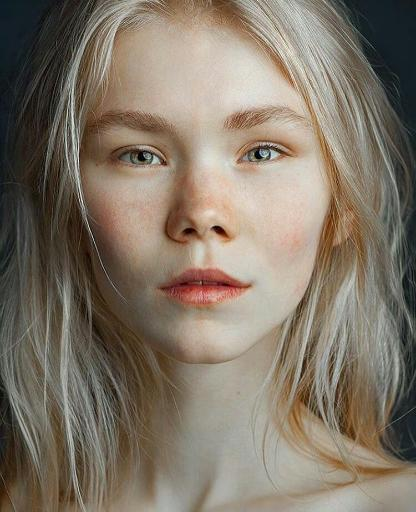left_eye: (237, 142, 297, 171)
left_lip_corner: (239, 276, 262, 301)
right_eye: (107, 147, 170, 173)
right_lip_corner: (154, 280, 174, 302)
